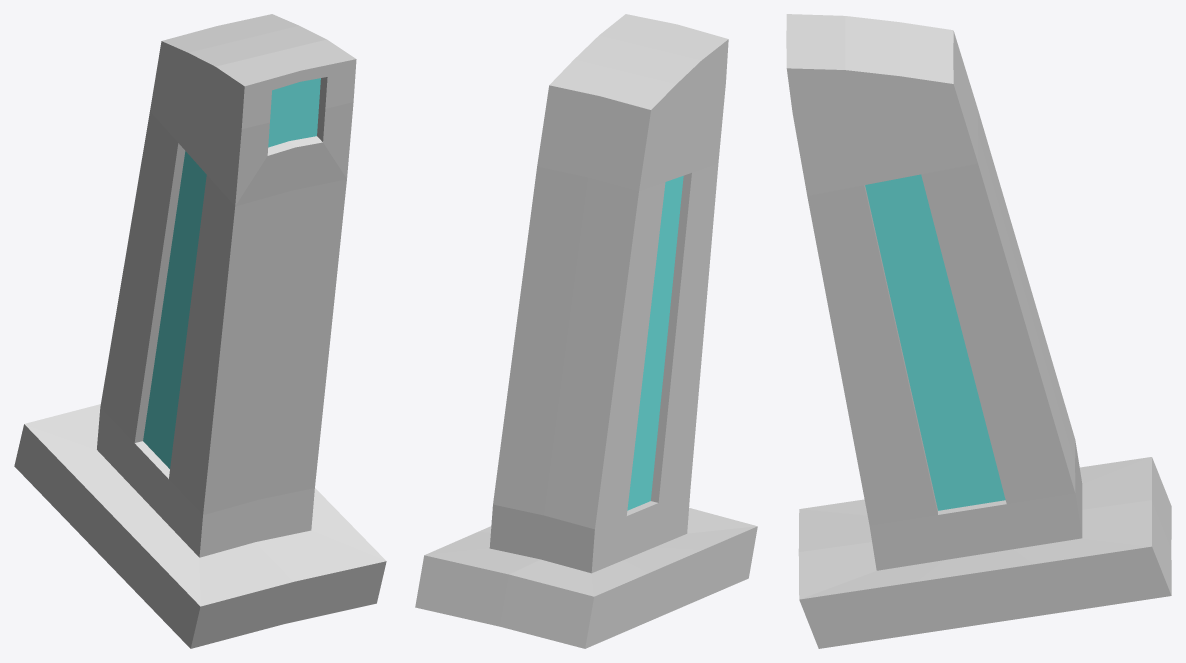
The model's file is PistolMag.fbx.
3 views of the same model, side by side, from view 1: azimuth 30°, elevation 25°; view 2: azimuth 150°, elevation 25°; view 3: azimuth 270°, elevation 25° (orthographic). The views are drawn at different scales.
Parts seen in each view (by area): view 1: magazine.001; view 2: magazine.001; view 3: magazine.001.
Part boxes in pixels (<box>): magazine.001: <box>14,14,386,648</box>; magazine.001: <box>415,14,757,648</box>; magazine.001: <box>786,14,1171,648</box>.
Size of the model in its own units: 0.0471 by 0.1371 by 0.0847.
